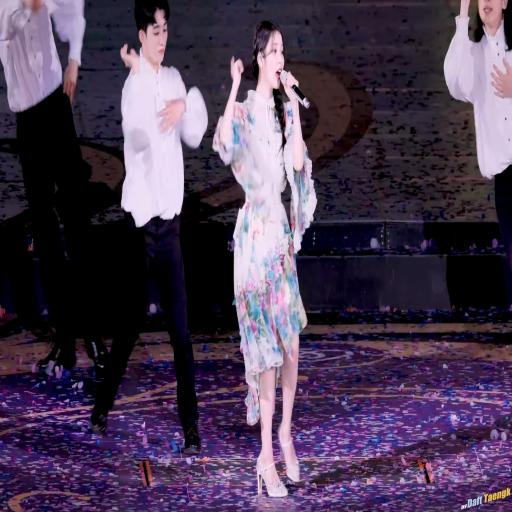IU: (252, 21, 285, 90)
